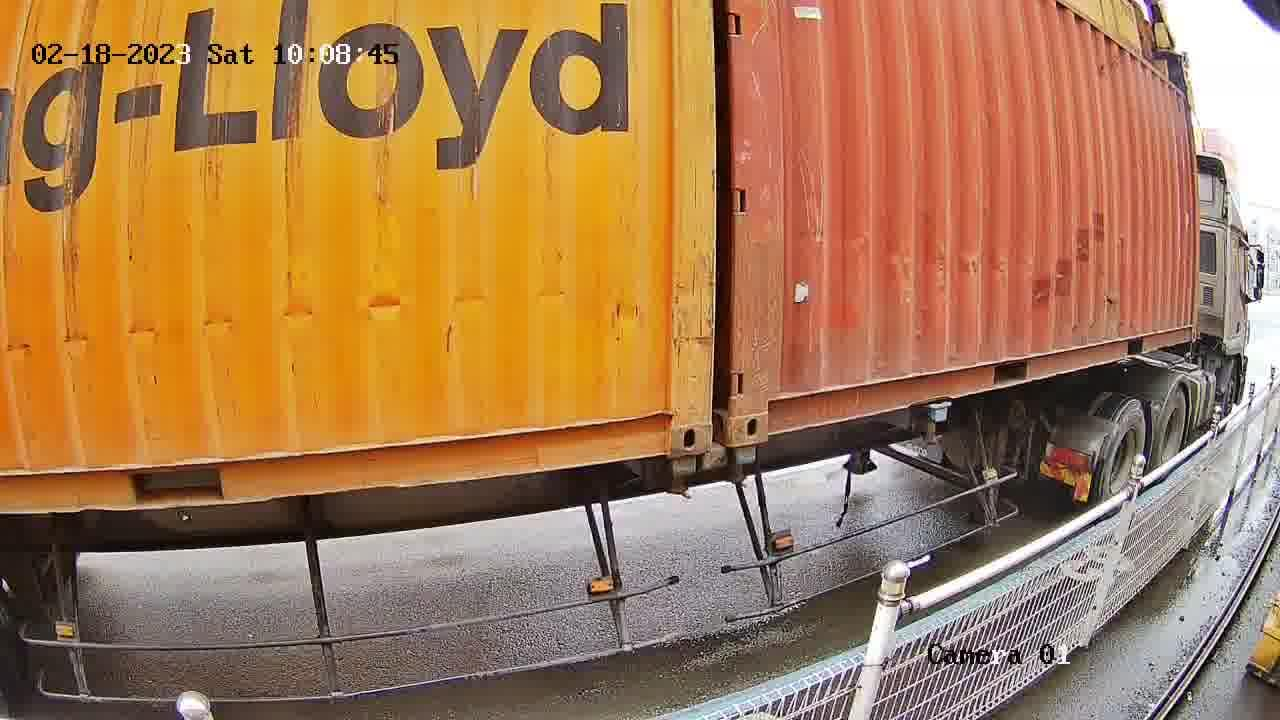Cone: (659, 455, 699, 502), (727, 445, 762, 488)
Hole_L: (727, 367, 803, 447)
Hole_R: (621, 375, 711, 461)
Tire: (1101, 403, 1150, 512), (1153, 390, 1187, 480)
